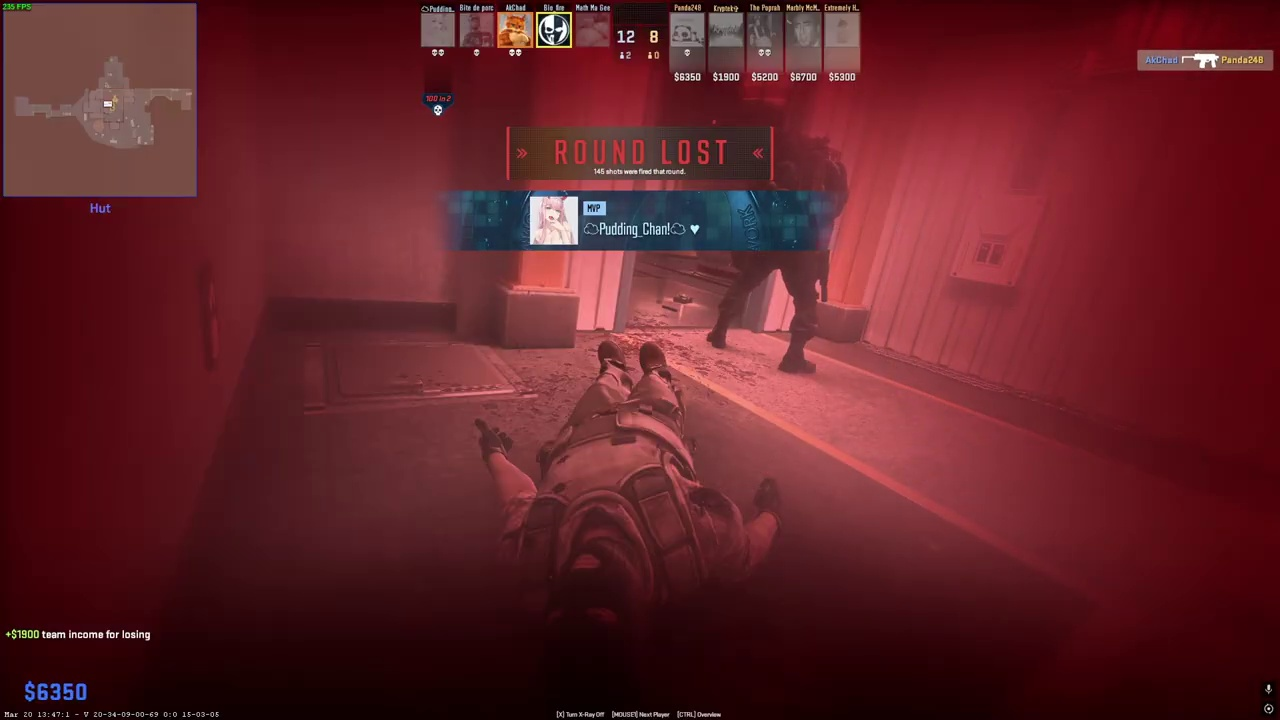CT: (712, 130, 842, 372)
